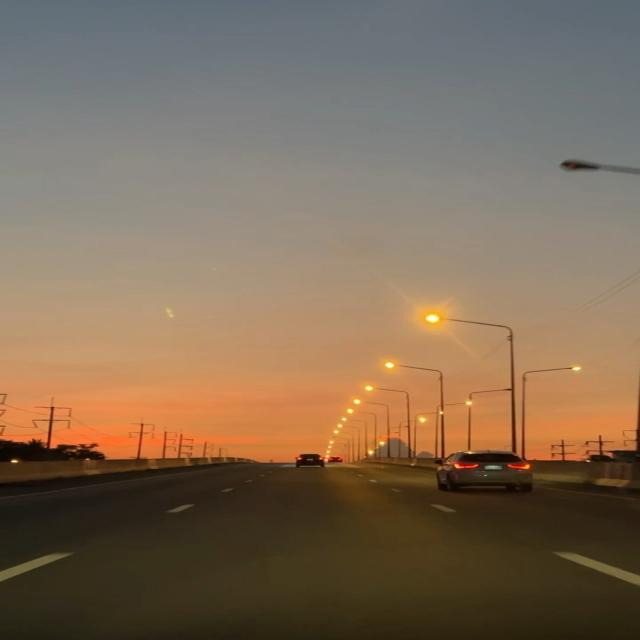Poth-hole: (106, 484, 506, 586)
